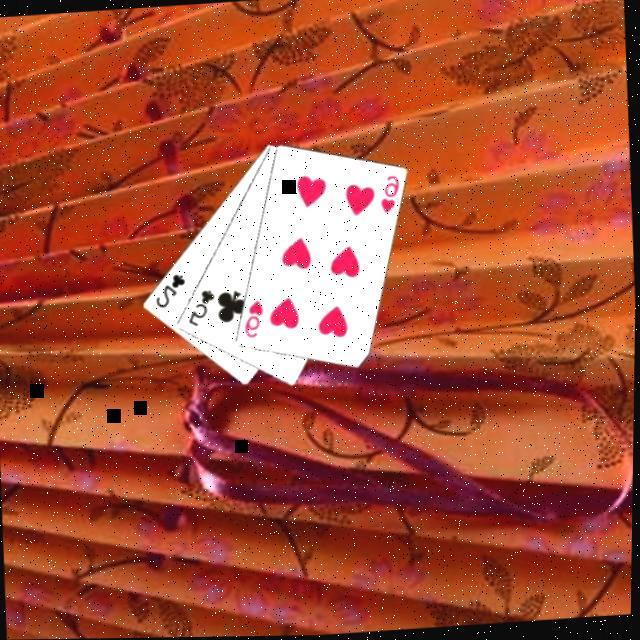2C: (151, 269, 189, 310)
5C: (184, 284, 219, 328)
6H: (374, 172, 402, 215), (240, 296, 266, 339)
